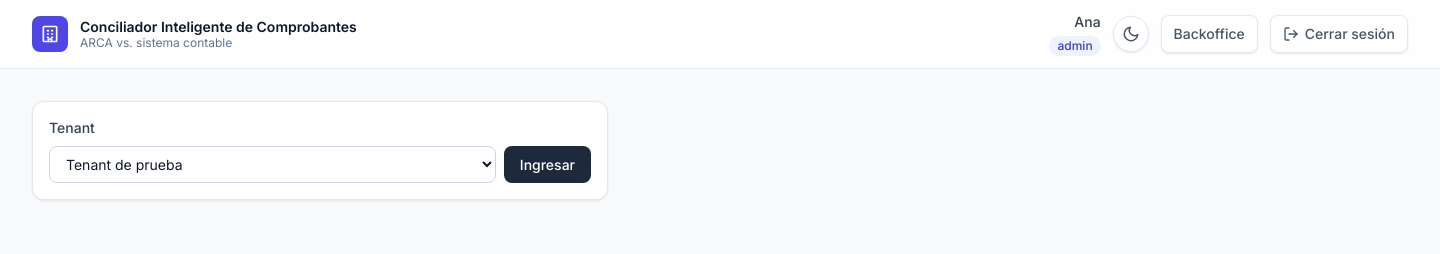
Test case: backoffice self-service: admin-only "Backoffice" header button › is visible for an admin and swaps the tenant/período flow for BackofficeView
Expected: the dropdown labelled "Tenant" is shown, 49,146 -> 496,183
What coordinates should you click on to do the following:
click the button "Backoffice"
I would click on:
 (1209, 34)
Its box is 1161,15 -> 1258,53.
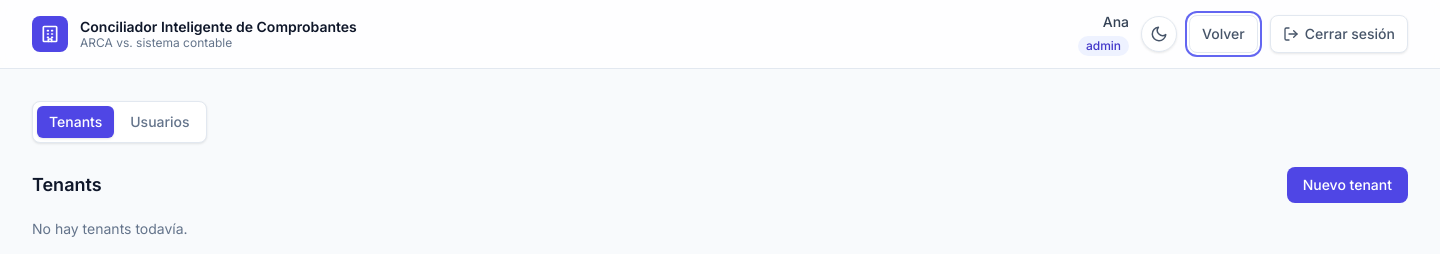
Expected: the text "No hay tenants todavía." is shown, 32,220 -> 188,237
What coordinates should you click on to do the following:
click the button "Volver"
I would click on:
 (1223, 34)
Its box is 1189,15 -> 1258,53.
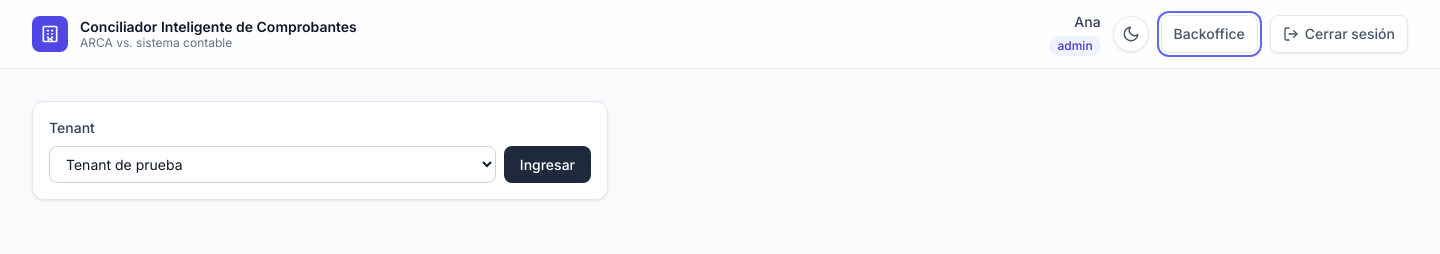
Expected: the dropdown labelled "Tenant" is shown, 49,146 -> 496,183
